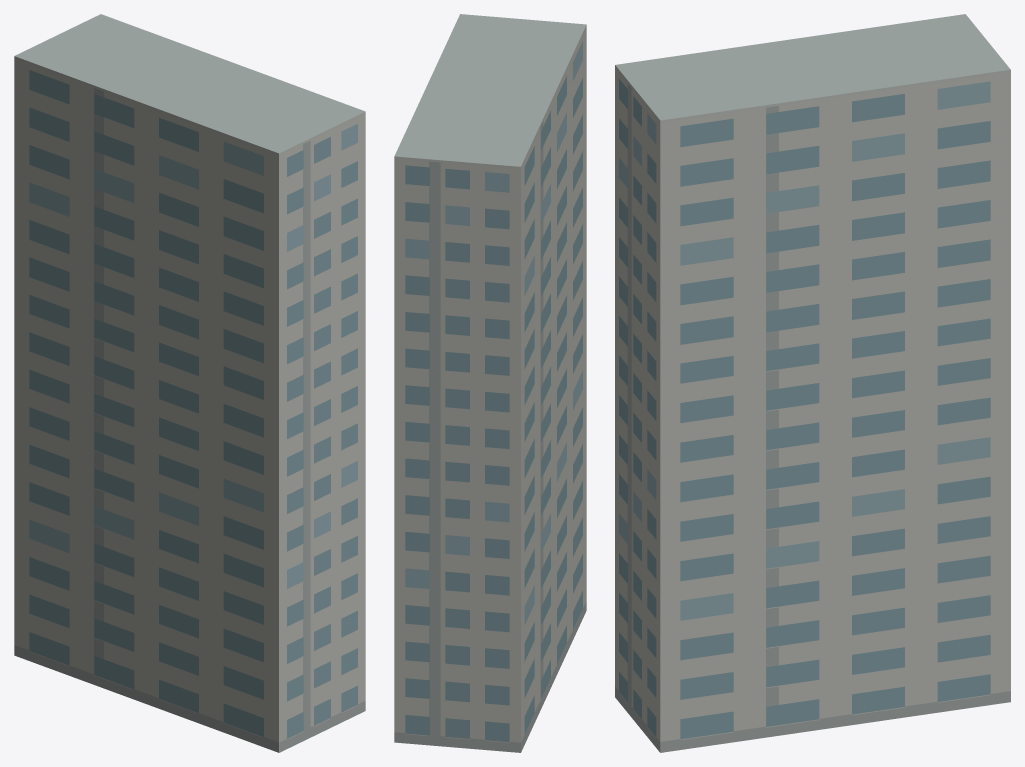
File: residential-a65ba1a3-0101-4280-864e-cd46406b1d36.glb
3 renders of one model, left to right at view 1: azimuth 30°, elevation 25°; view 2: azimuth 150°, elevation 25°; view 3: azimuth 270°, elevation 25°, orthographic. The views are drawn at different scales.
Parts seen in each view (by area): view 1: residential-a65ba1a3-0101-4280-864e-cd46406b1d36.tmp; view 2: residential-a65ba1a3-0101-4280-864e-cd46406b1d36.tmp; view 3: residential-a65ba1a3-0101-4280-864e-cd46406b1d36.tmp.
Boxes of the visible parts, bbox=[...] form: residential-a65ba1a3-0101-4280-864e-cd46406b1d36.tmp: bbox=[14, 14, 365, 752]; residential-a65ba1a3-0101-4280-864e-cd46406b1d36.tmp: bbox=[394, 14, 586, 752]; residential-a65ba1a3-0101-4280-864e-cd46406b1d36.tmp: bbox=[615, 14, 1010, 752].
Size of the model in its own units: 22.04 by 61 by 34.6.
